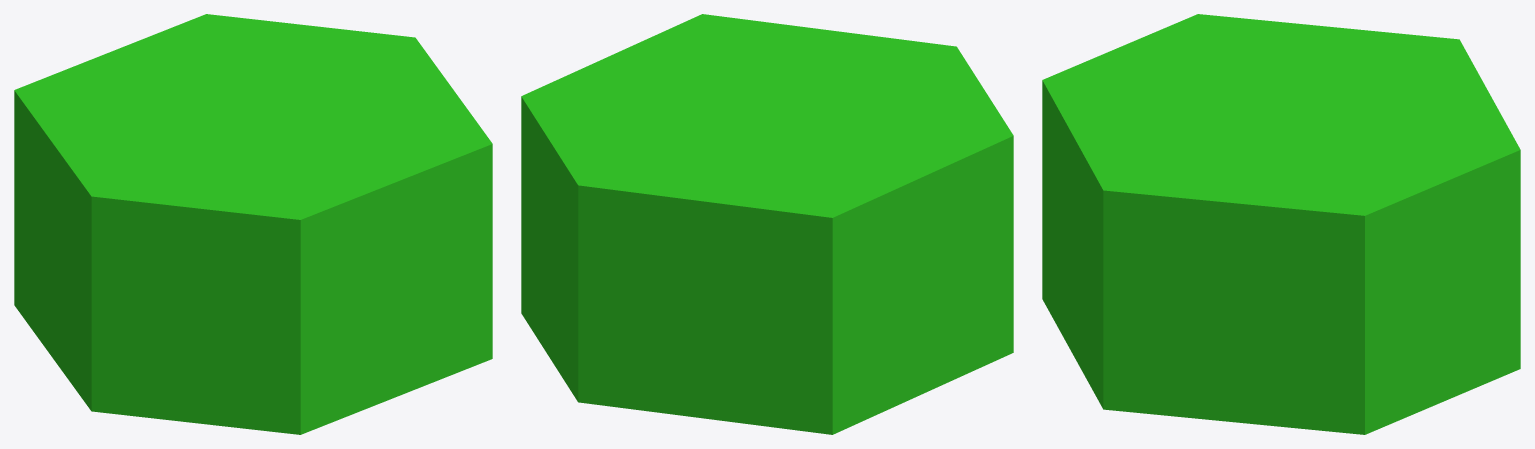
Rendered from NormalContent.fbx.
3 renders of one model, left to right at view 1: azimuth 30°, elevation 25°; view 2: azimuth 150°, elevation 25°; view 3: azimuth 270°, elevation 25°, orthographic.
Visible parts, largest first — view 1: Model; view 2: Model; view 3: Model.
Part boxes in pixels (bbox=[...]): Model: bbox=[14, 14, 492, 434]; Model: bbox=[521, 14, 1013, 434]; Model: bbox=[1042, 14, 1520, 434].
Size of what is drawn, in the model's own units: 0.6086 by 0.308 by 0.6094.
